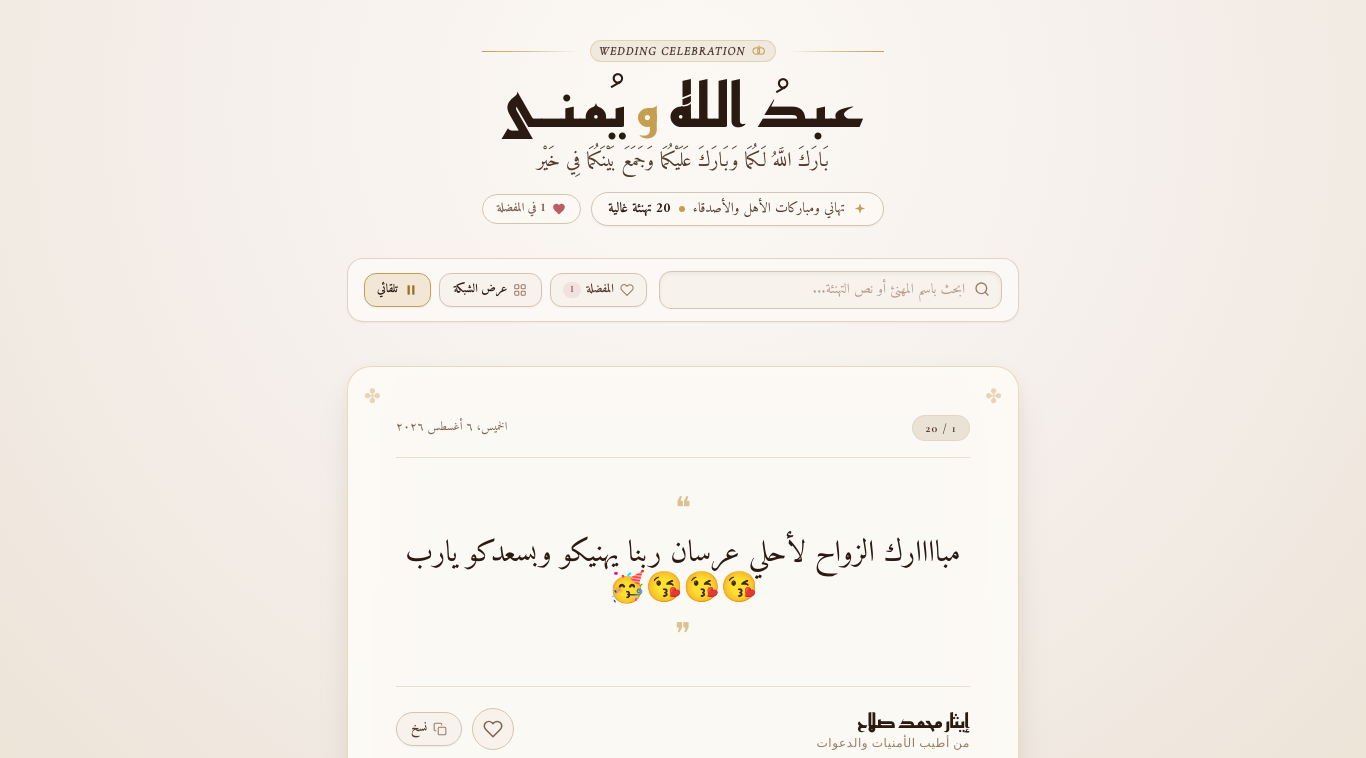
App component › filters wishes when clicking the favorites filter button
The image size is (1366, 758).
Click favorites toggle button
Click the button with aria-label "زر تصفية المفضلة": (599, 290) [550,273,647,307]
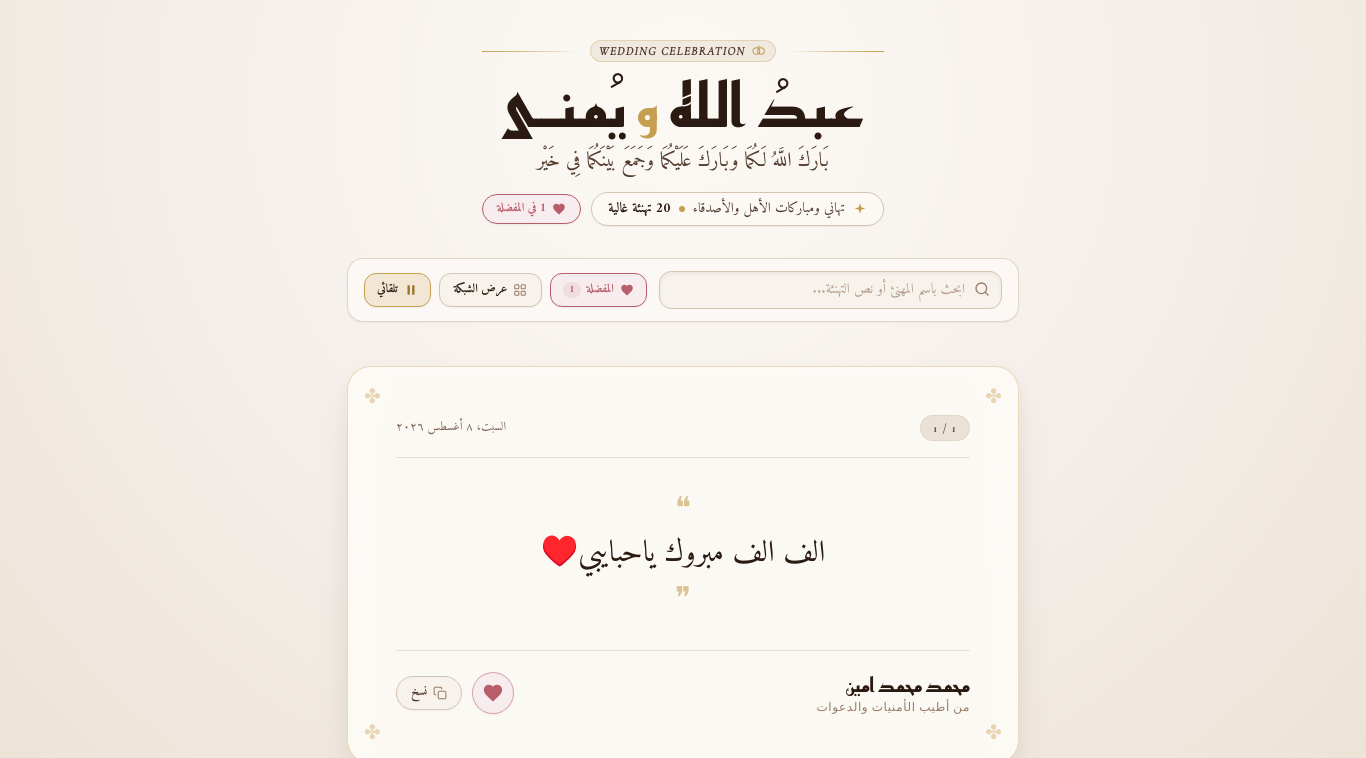
Check: the text "1 / 1" is shown, box [920,415,970,441]
